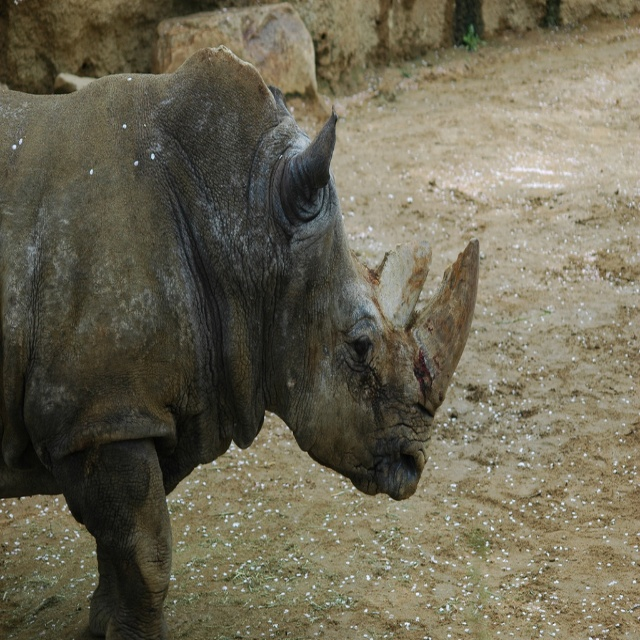Rhinoceros: (0, 43, 479, 639)
